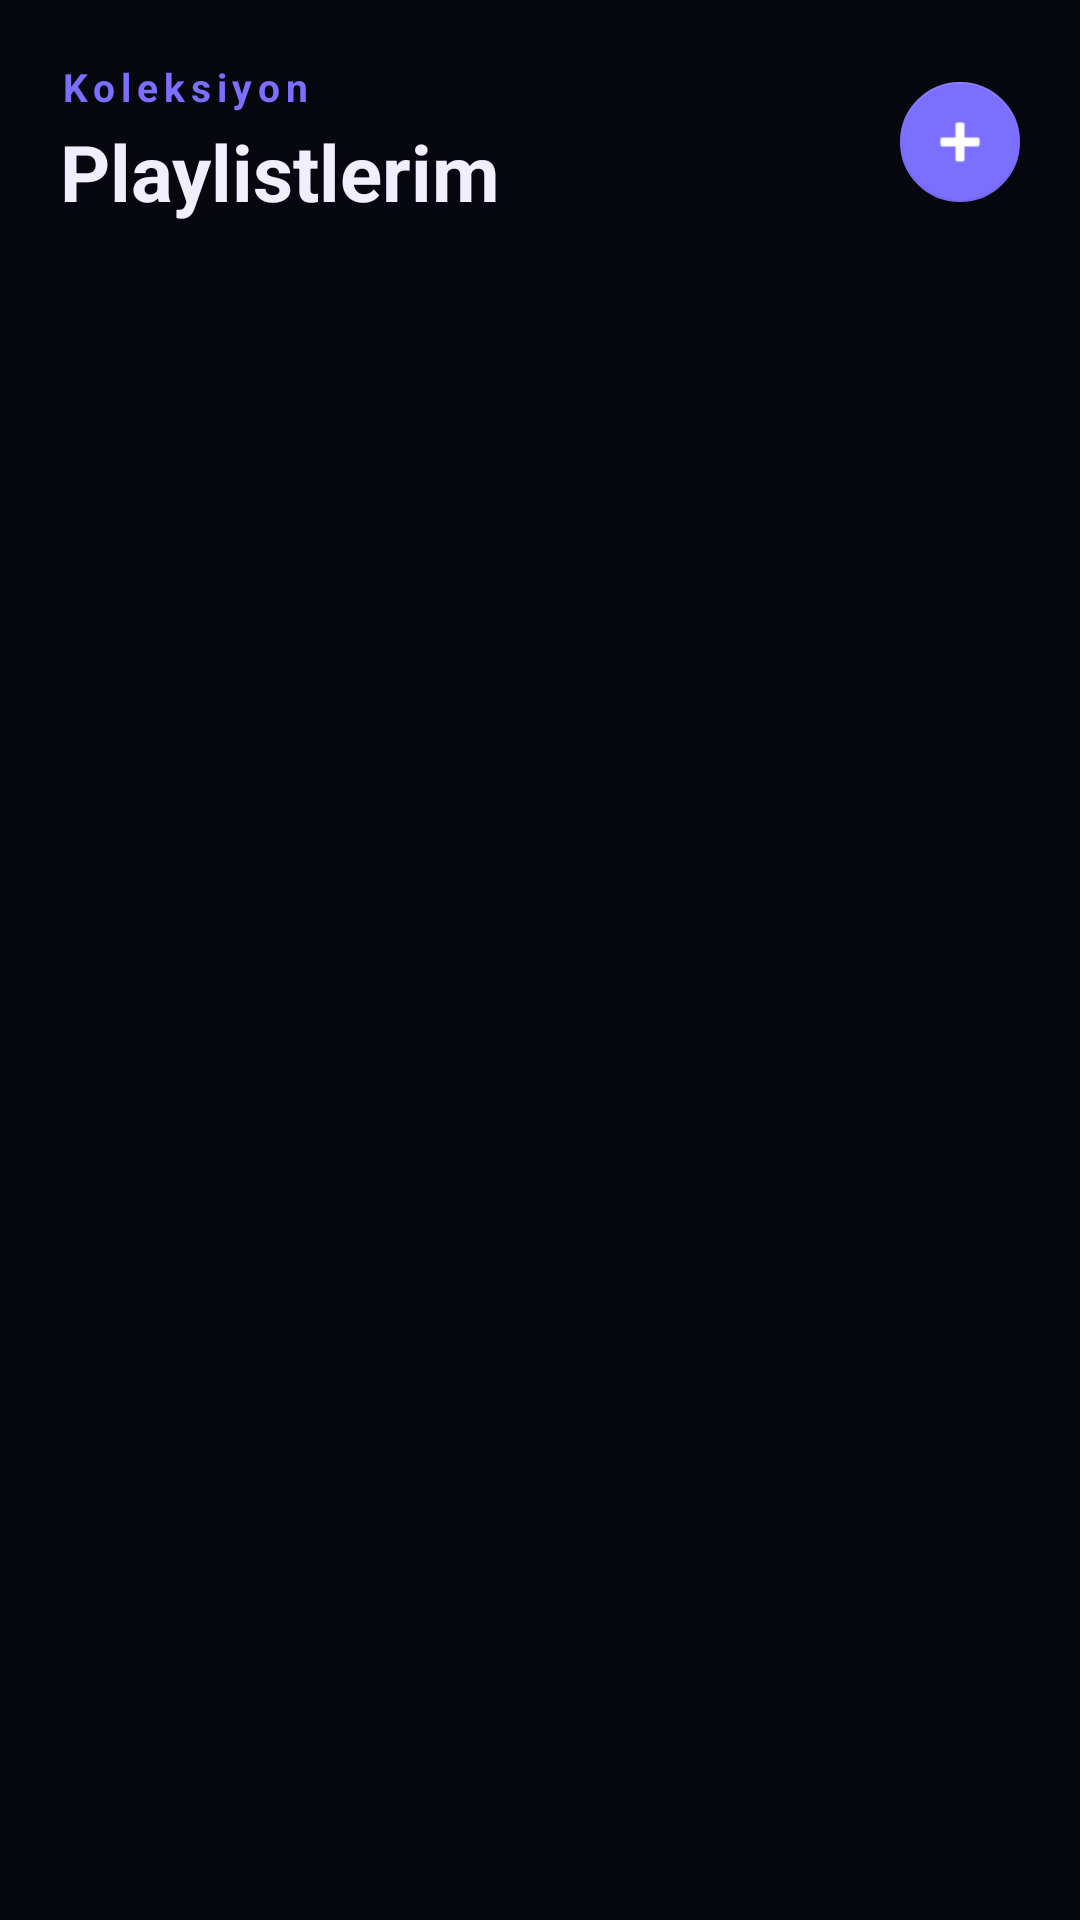

Locate icon controls on the screen. Image size 1080x1920, boxes as (x1, y1, x2, y2).
add: (900, 82, 1020, 202)
